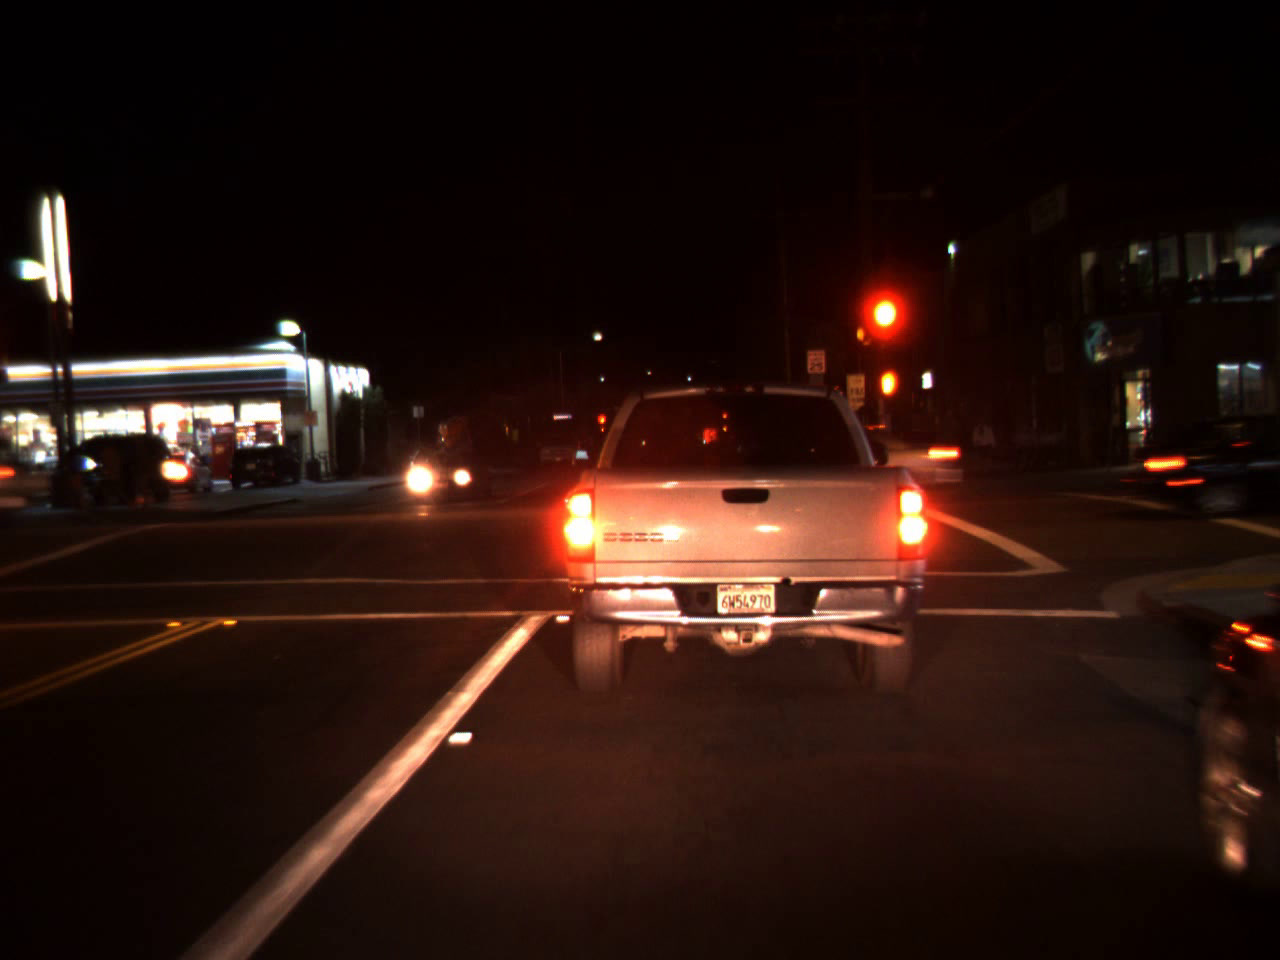stop: (865, 298, 901, 362), (596, 412, 608, 436)
